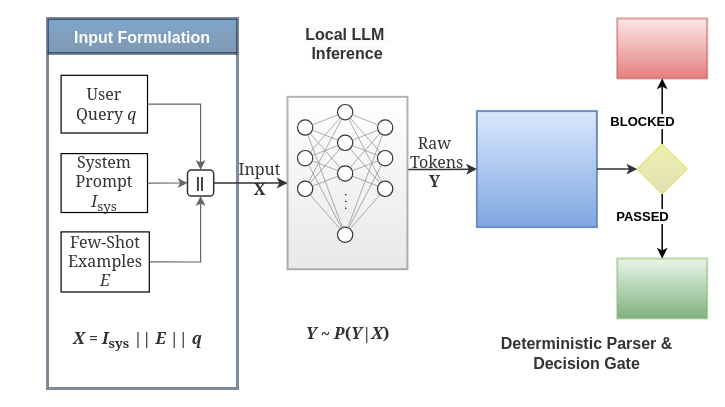
Image size: 725x407. Some labels were removed from this diagram. Each missing label, with the centre of its shape:
Deterministic Parser f parse ( Y ): pixel 536 169
Forward to Target LLM: pixel 662 288
Refusal & Block: pixel 662 48
